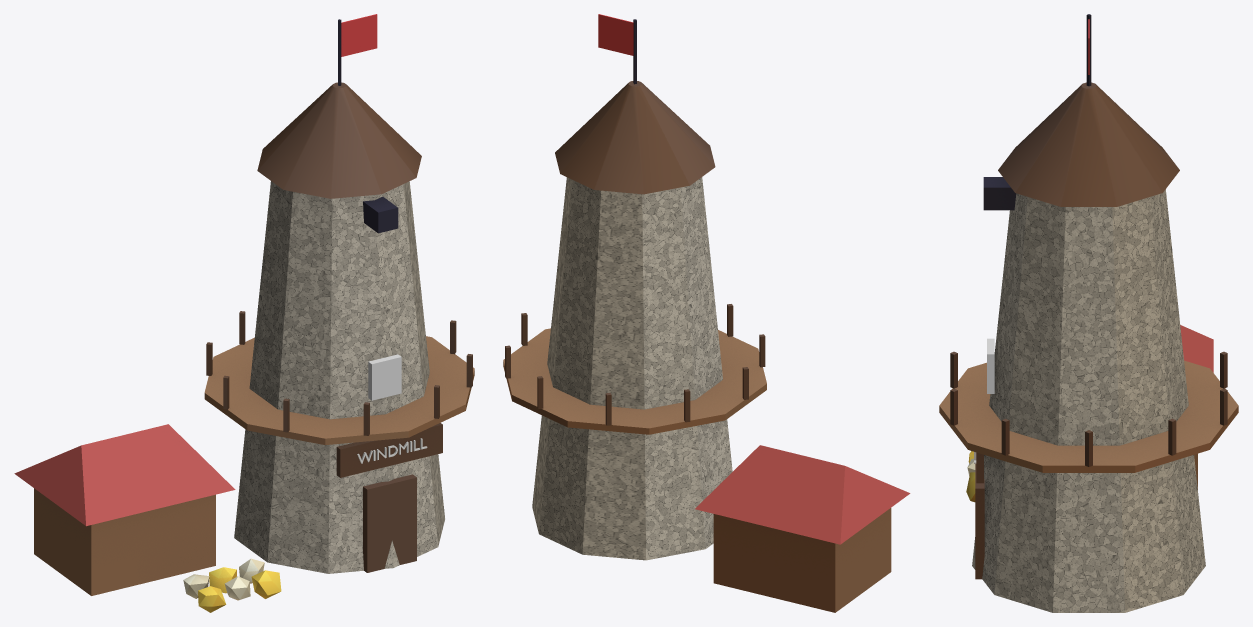
The model's file is home_windmill_3.fbx.
3 renders of one model, left to right at view 1: azimuth 30°, elevation 25°; view 2: azimuth 150°, elevation 25°; view 3: azimuth 270°, elevation 25°, orthographic. The views are drawn at different scales.
Visible parts, largest first — view 1: home_windmill_3_body, home_windmill_3_body_glow; view 2: home_windmill_3_body; view 3: home_windmill_3_body, home_windmill_3_body_glow.
Boxes of the visible parts, box(x1,y1,x2,y2) form: home_windmill_3_body: box(14, 14, 474, 612); home_windmill_3_body_glow: box(368, 354, 401, 400); home_windmill_3_body: box(503, 14, 910, 612); home_windmill_3_body: box(939, 14, 1238, 612); home_windmill_3_body_glow: box(987, 338, 994, 393).
Size of the model in its own units: 3085 by 3929 by 1920.
Materials: 2 (1 with a texture image).
